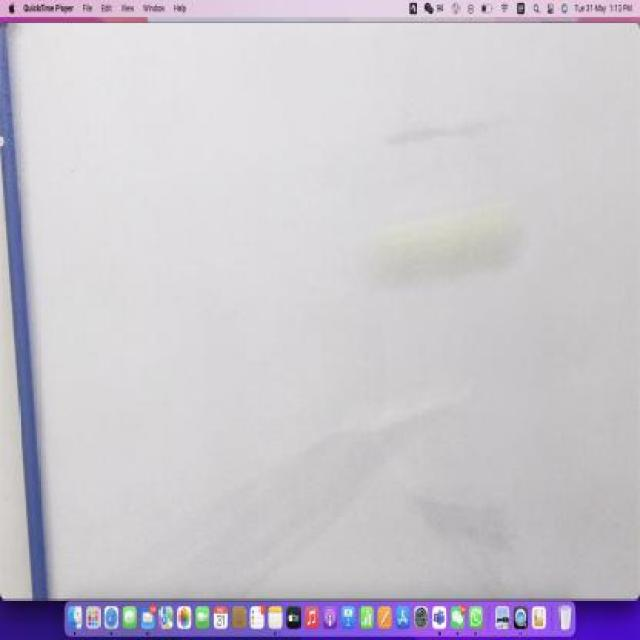baseball: (378, 210, 528, 278)
